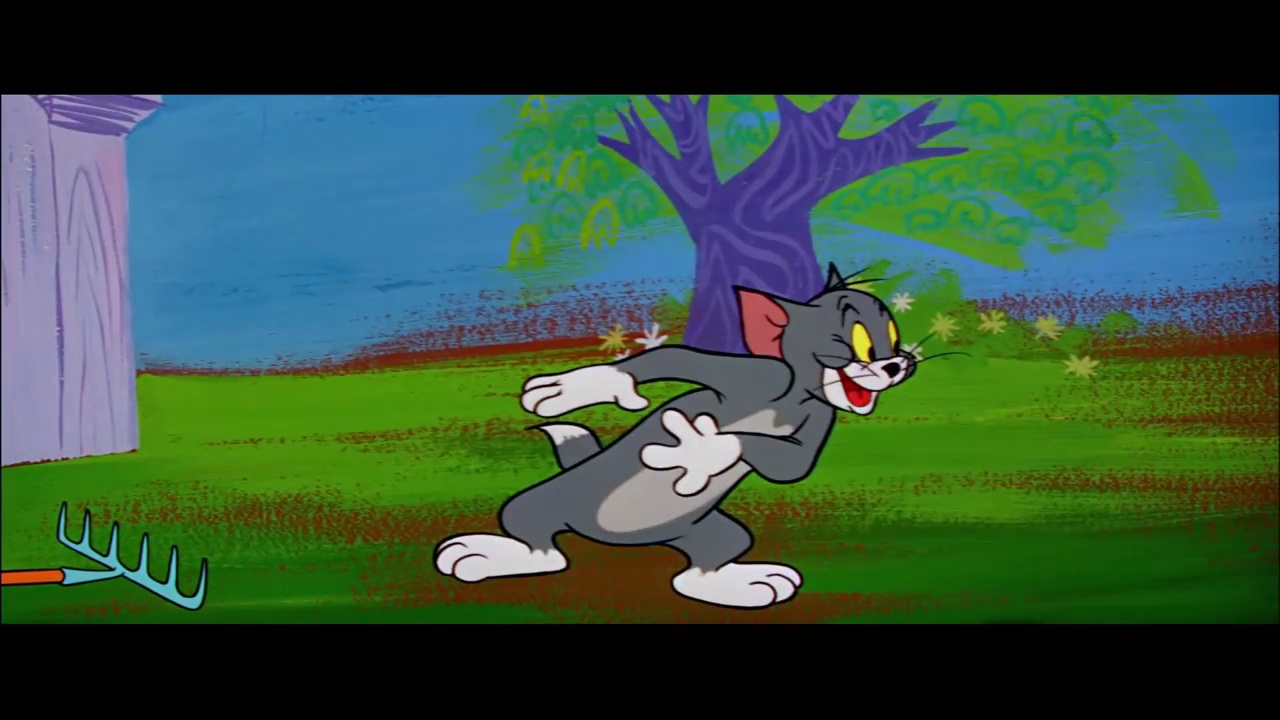tom: (732, 258, 932, 423)
